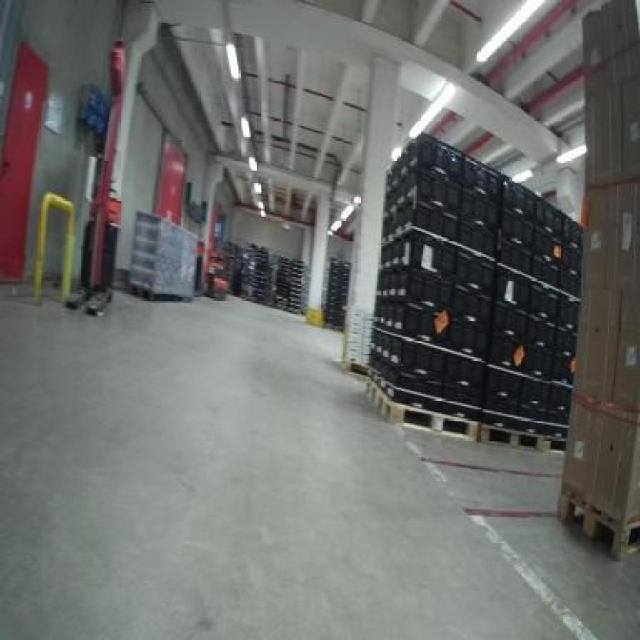floor: (0, 291, 637, 637)
pallets: (368, 134, 578, 434), (557, 0, 637, 554), (128, 211, 194, 295)
